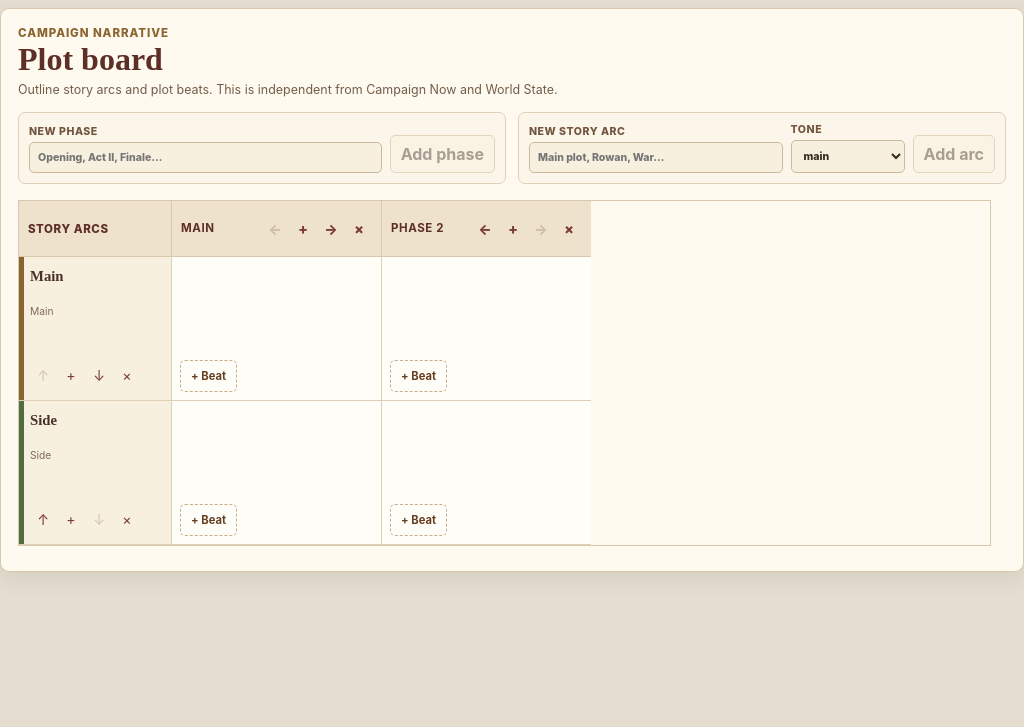
it: PlotBoardPanel › shows a required-field message instead of saving an untitled beat
Click the 1st button "+ Beat" at (208, 376), box [180, 360, 237, 392]
(page scrolled)
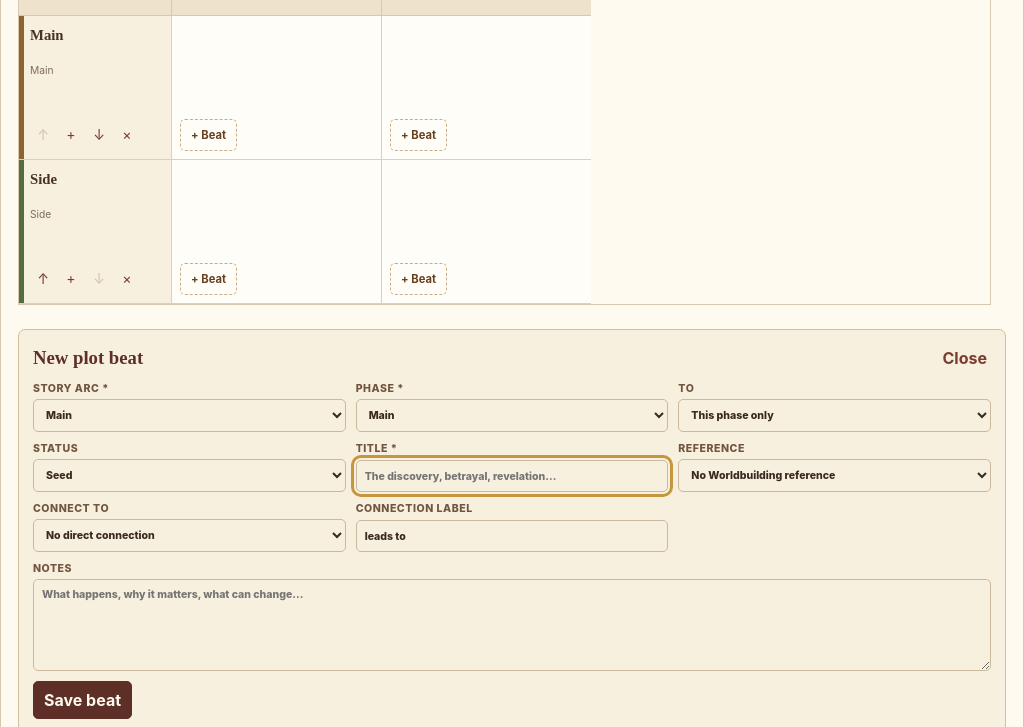
Click the button "Save beat" at (82, 700), box [33, 681, 132, 719]
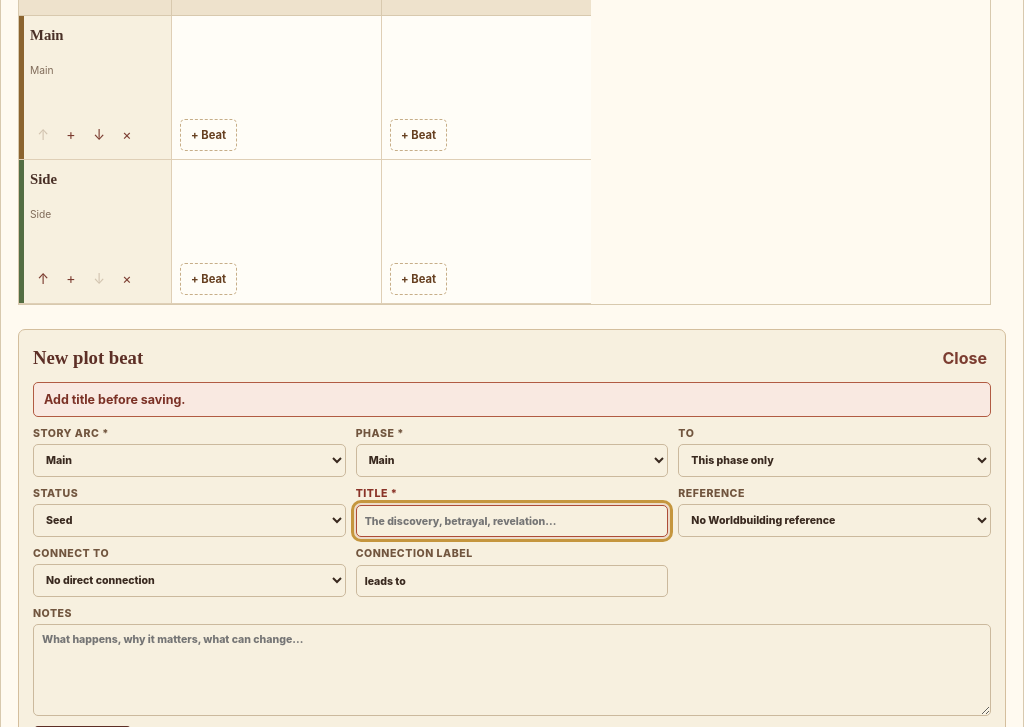
Now the message "Add title before saving." is shown, box [33, 382, 991, 417]
